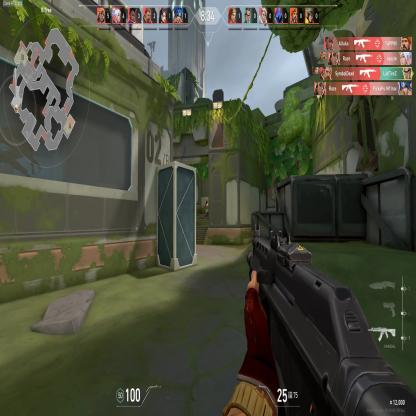enemy: (203, 198, 208, 221)
